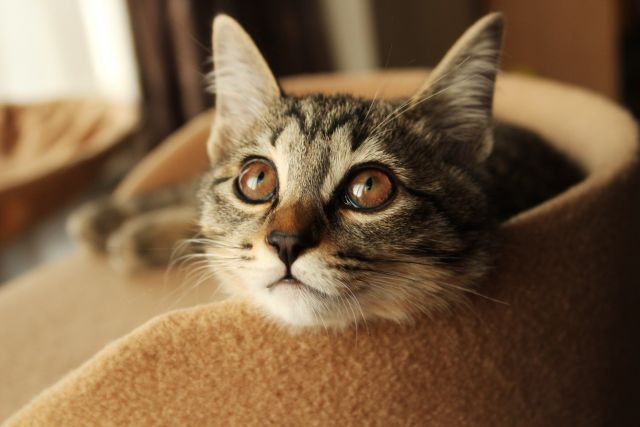cat: (186, 10, 516, 333)
cat-face: (183, 8, 520, 334)
